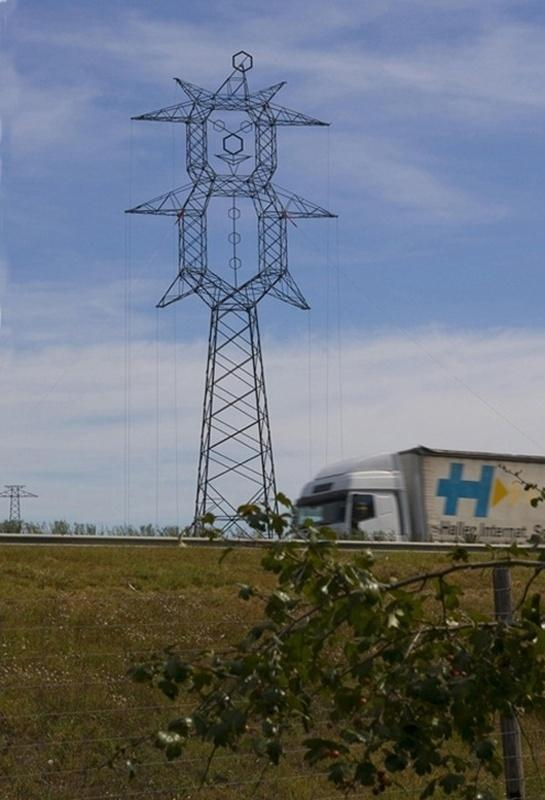power_tower: (127, 44, 347, 545), (0, 480, 41, 531)
